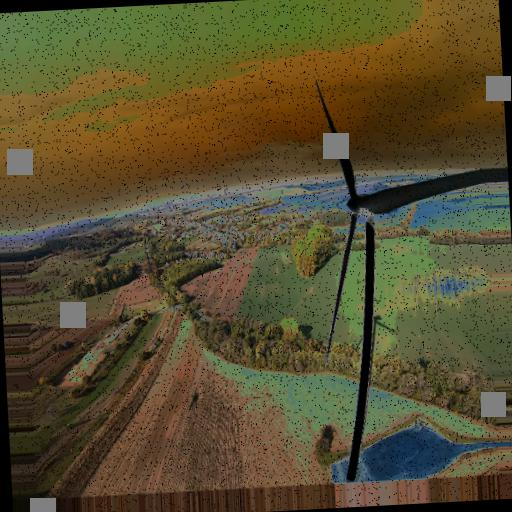wind turbine: (313, 80, 512, 482)
